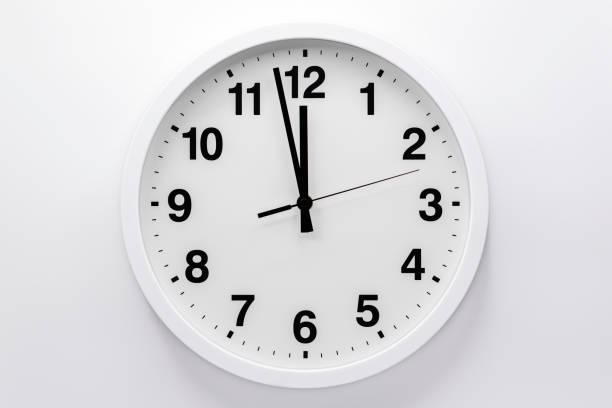clock: (115, 20, 491, 398)
